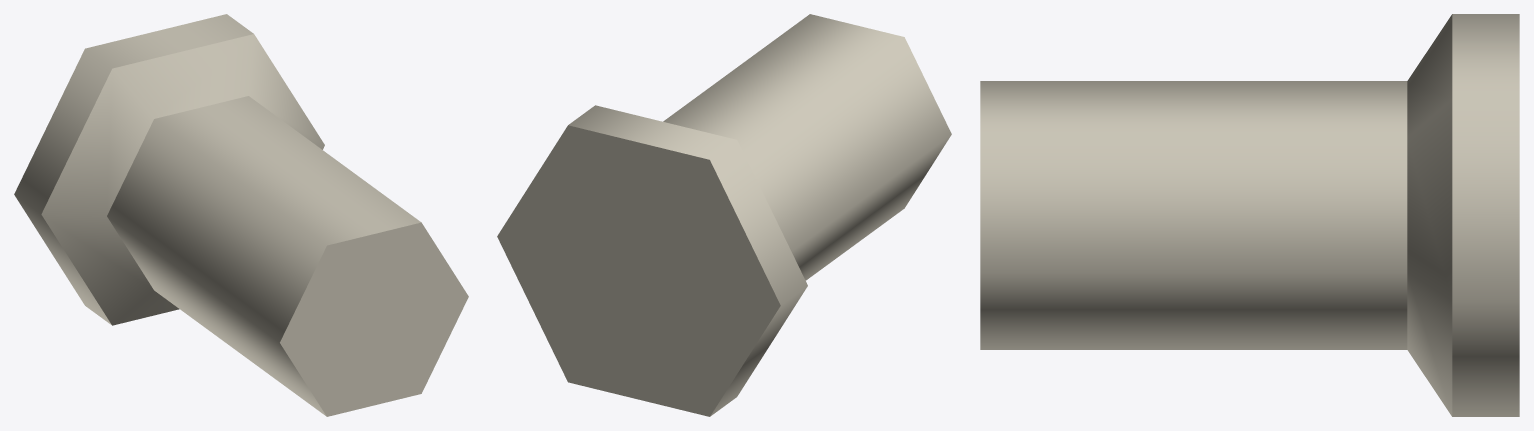
The model's file is u70_busbar.obj.
3 views of the same model, side by side, from view 1: azimuth 30°, elevation 25°; view 2: azimuth 150°, elevation 25°; view 3: azimuth 270°, elevation 25° (orthographic). The views are drawn at different scales.
Visible parts, largest first — view 1: u70_busbar; view 2: u70_busbar; view 3: u70_busbar.
Boxes of the visible parts, left/top/right/bottom form: u70_busbar: left=14, top=14, right=468, bottom=416; u70_busbar: left=497, top=14, right=951, bottom=416; u70_busbar: left=980, top=14, right=1519, bottom=416.
Bounding box in the file's own units: 0.72 × 0.6235 × 0.96.
